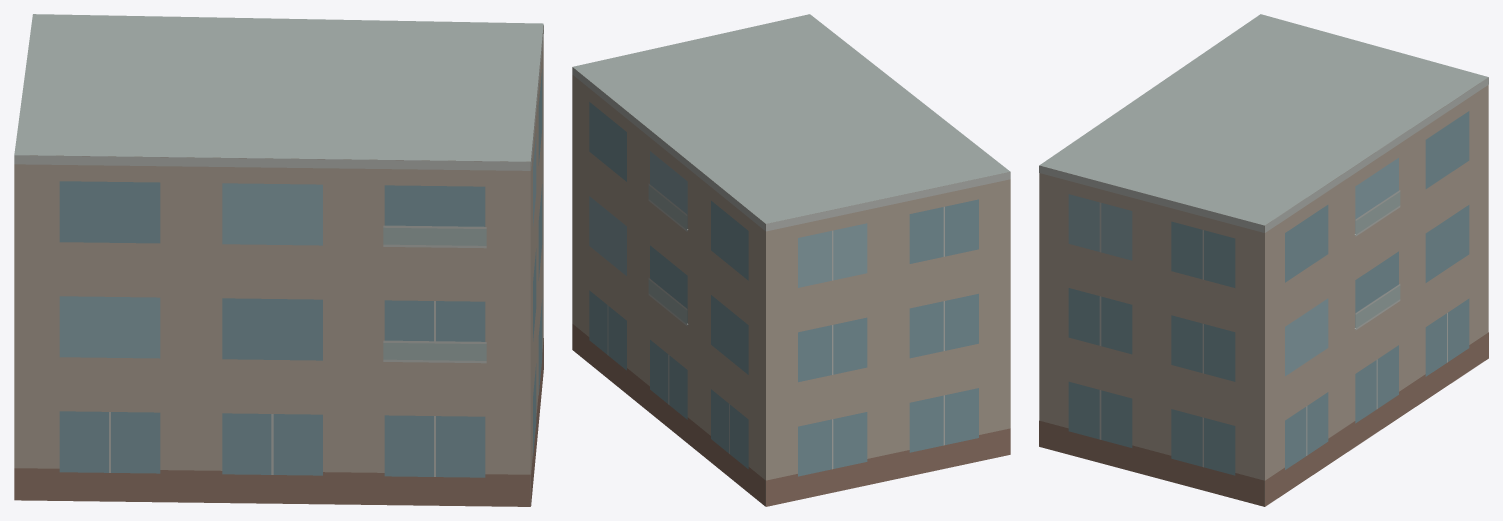
Rendered from survey-upis-32654265.glb.
3 views of the same model, side by side, from view 1: azimuth 30°, elevation 25°; view 2: azimuth 150°, elevation 25°; view 3: azimuth 270°, elevation 25° (orthographic). The views are drawn at different scales.
Visible parts, largest first — view 1: survey-upis-32654265.tmp; view 2: survey-upis-32654265.tmp; view 3: survey-upis-32654265.tmp.
Part boxes in pixels (x1,y1,x2,y2): survey-upis-32654265.tmp: [14, 14, 543, 506]; survey-upis-32654265.tmp: [572, 14, 1010, 506]; survey-upis-32654265.tmp: [1039, 14, 1488, 506].
Size of the model in its own units: 14.77 by 9.15 by 13.26.
